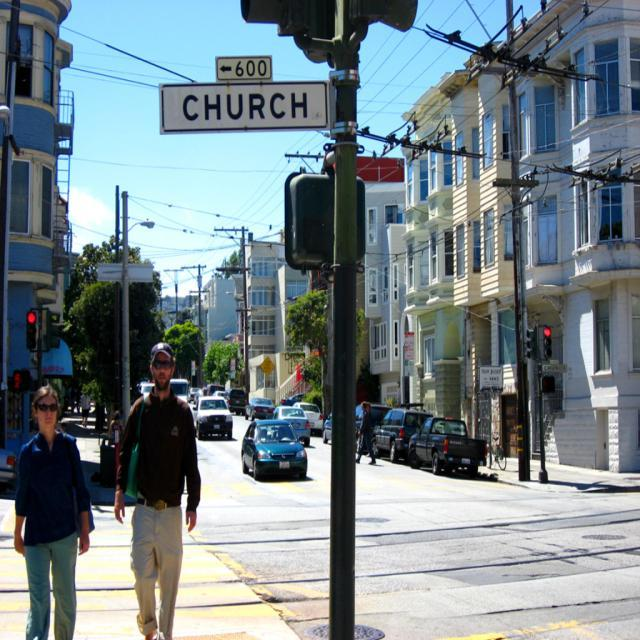off traffic light: (46, 312, 60, 349), (526, 330, 538, 362)
traffic light: (539, 327, 552, 362), (27, 311, 35, 351)
